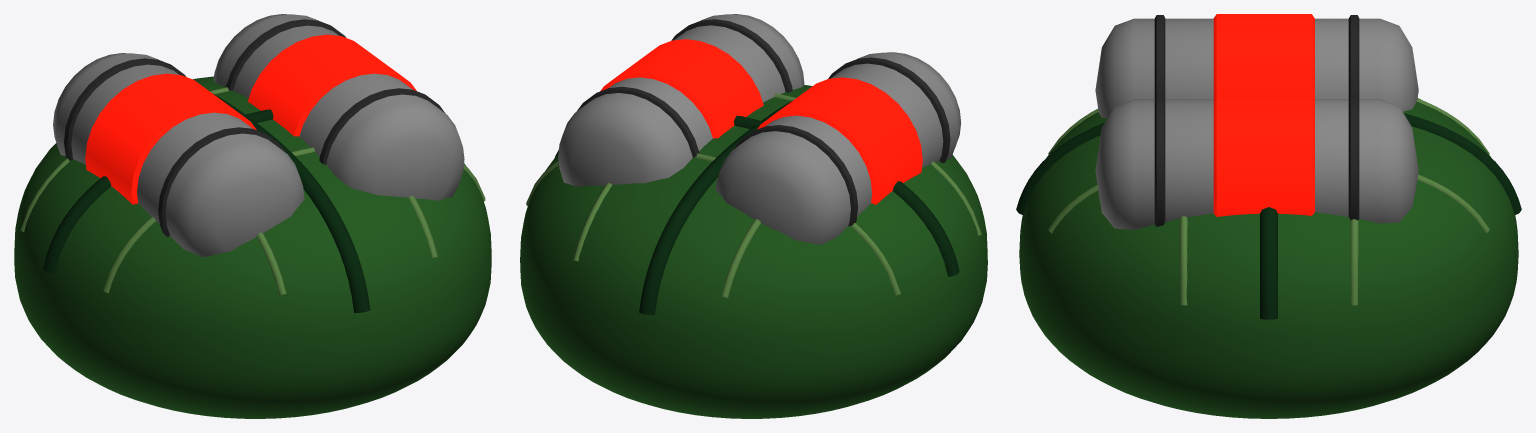
File: pu_atom_bombs.glb
The picture shows the model from 3 angles, left to right: view 1: azimuth 30°, elevation 25°; view 2: azimuth 150°, elevation 25°; view 3: azimuth 270°, elevation 25°; orthographic projection. The views are drawn at different scales.
Visible parts, largest first — view 1: orb, canister, canister_band, canister_ring, orb_groove_2, orb_seam_2; view 2: orb, canister, canister_band, canister_ring, orb_groove_2, orb_seam_2; view 3: orb, canister, canister_band, canister_ring, orb_groove_2, orb_seam_2.
Part boxes in pixels (bbox=[...]): orb: bbox=[14, 76, 491, 418]; canister: bbox=[53, 14, 464, 257]; canister_band: bbox=[85, 34, 416, 204]; canister_ring: bbox=[64, 19, 445, 236]; orb_groove_2: bbox=[43, 93, 370, 312]; orb_seam_2: bbox=[20, 87, 485, 295]; orb: bbox=[520, 85, 987, 418]; canister: bbox=[558, 14, 961, 244]; canister_band: bbox=[600, 39, 922, 204]; canister_ring: bbox=[577, 19, 950, 226]; orb_groove_2: bbox=[554, 100, 959, 315]; orb_seam_2: bbox=[526, 93, 981, 297]; orb: bbox=[1019, 98, 1518, 418]; canister: bbox=[1095, 18, 1418, 229]; canister_band: bbox=[1213, 14, 1314, 216]; canister_ring: bbox=[1154, 15, 1359, 226]; orb_groove_2: bbox=[1016, 113, 1521, 319]; orb_seam_2: bbox=[1048, 98, 1489, 305].
Size of the model in its own units: 20.88 by 14.2 by 21.27.
